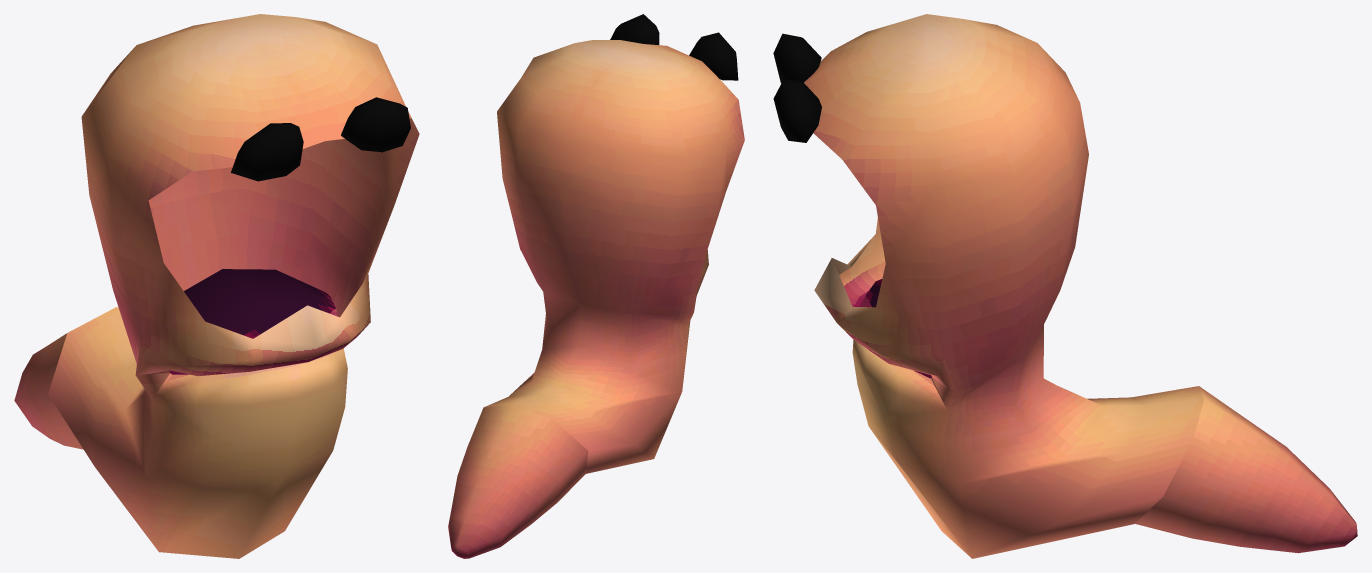
File: Worm_Body.obj
3 views of the same model, side by side, from view 1: azimuth 30°, elevation 25°; view 2: azimuth 150°, elevation 25°; view 3: azimuth 270°, elevation 25° (orthographic). The views are drawn at different scales.
Visible parts, largest first — view 1: Inst3D_RefRep.221; view 2: Inst3D_RefRep.221; view 3: Inst3D_RefRep.221.
Part boxes in pixels (x1,y1,x2,y2): Inst3D_RefRep.221: (14, 14, 419, 558); Inst3D_RefRep.221: (448, 14, 744, 558); Inst3D_RefRep.221: (773, 14, 1357, 558).
Bounding box in the file's own units: 1.75 × 3.1 × 3.24.
Materials: 1 (1 with a texture image).
